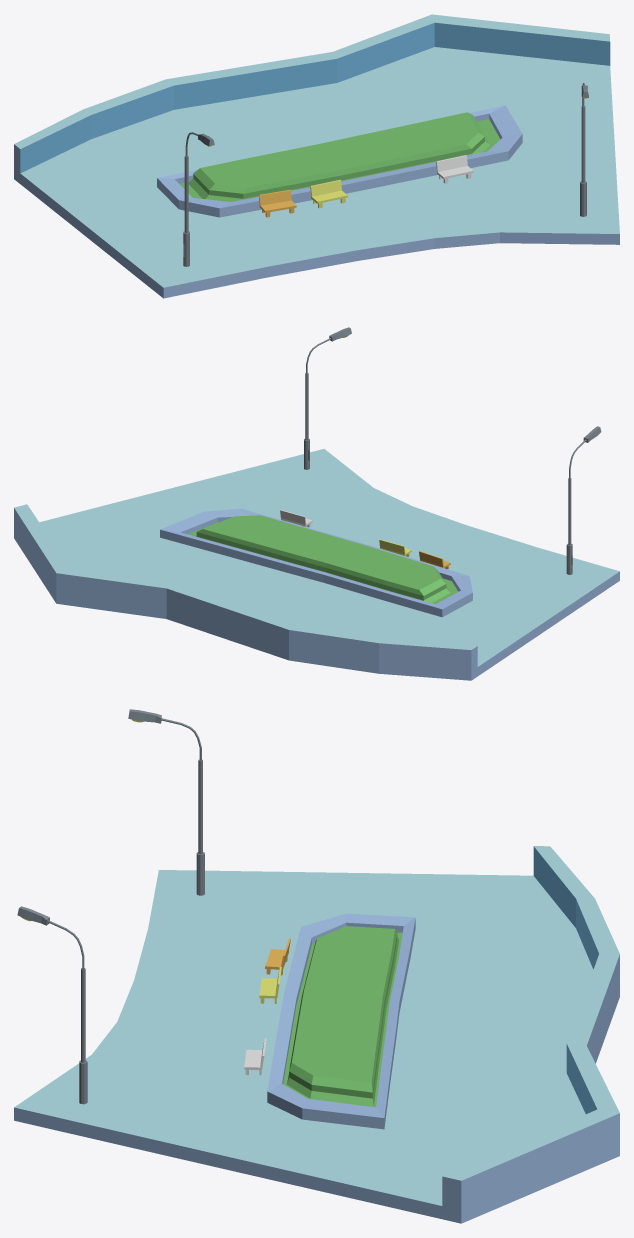
The model's file is 3sss.fbx.
3 renders of one model, top to bottom at view 1: azimuth 30°, elevation 25°; view 2: azimuth 150°, elevation 25°; view 3: azimuth 270°, elevation 25°, orthographic. The views are drawn at different scales.
Visible parts, largest first — view 1: Cube.002; view 2: Cube.002; view 3: Cube.002.
Part boxes in pixels (x1=…): Cube.002: x1=14, y1=14, x2=619, y2=298; Cube.002: x1=14, y1=327, x2=619, y2=680; Cube.002: x1=14, y1=709, x2=619, y2=1223.
Size of the model in its own units: 554 by 147 by 416.
